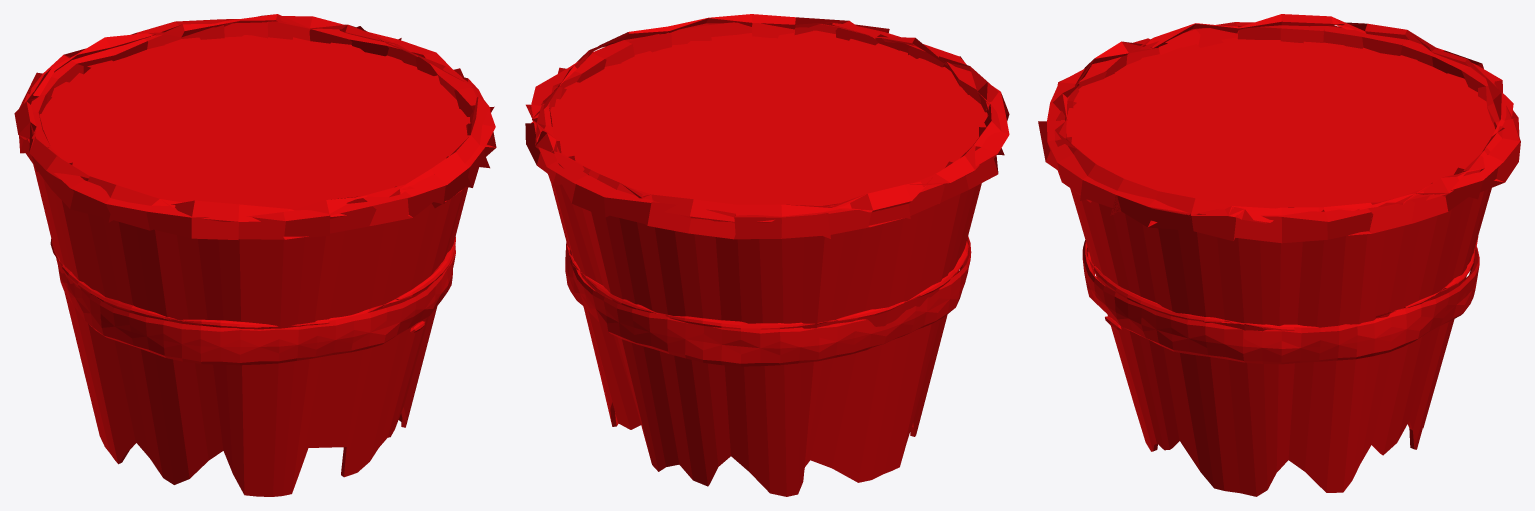
File: BarrelDestroyedTop.fbx
The picture shows the model from 3 angles, left to right: view 1: azimuth 30°, elevation 25°; view 2: azimuth 150°, elevation 25°; view 3: azimuth 270°, elevation 25°; orthographic projection.
Visible parts, largest first — view 1: Cylinder, Cylinder.003, Cylinder.001; view 2: Cylinder, Cylinder.003, Cylinder.001; view 3: Cylinder, Cylinder.003, Cylinder.001.
Part boxes in pixels (x1,y1,x2,y2): Cylinder: [33, 35, 470, 496]; Cylinder.003: [14, 14, 496, 239]; Cylinder.001: [50, 236, 455, 365]; Cylinder: [550, 30, 987, 496]; Cylinder.003: [525, 14, 1009, 239]; Cylinder.001: [565, 236, 971, 366]; Cylinder: [1066, 37, 1495, 496]; Cylinder.003: [1038, 14, 1520, 243]; Cylinder.001: [1082, 236, 1479, 364].
Size of the model in its own units: 106 by 79.84 by 107.
